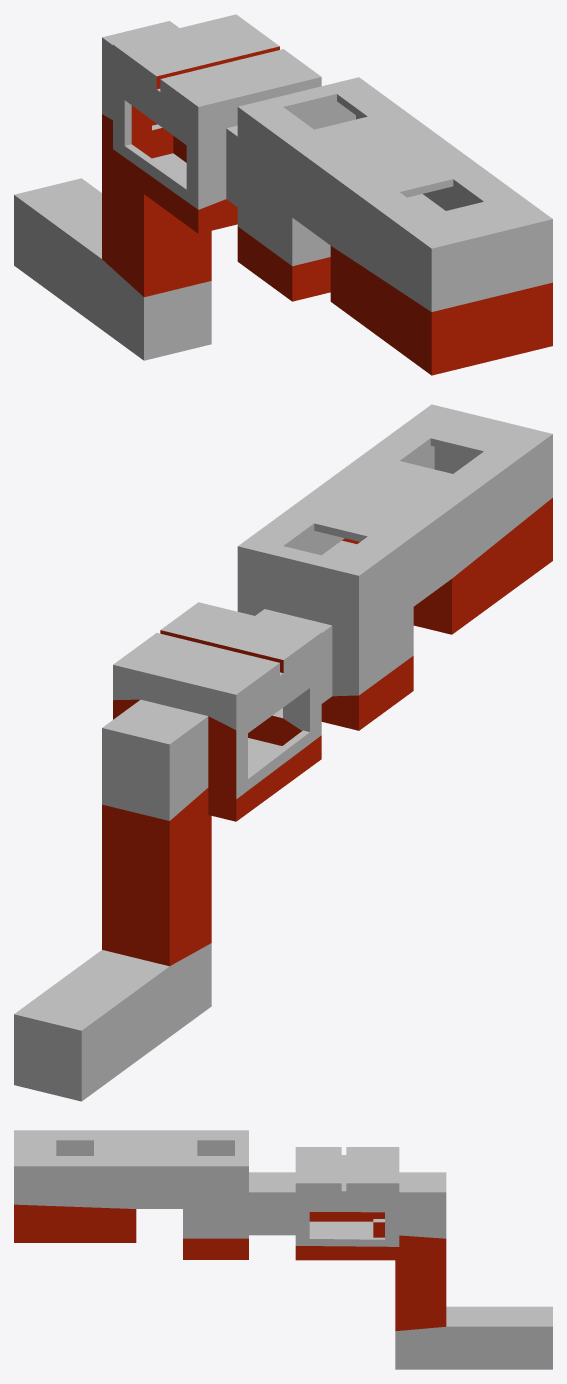
Rendered from map.obj.
The picture shows the model from 3 angles, top to bottom: view 1: azimuth 30°, elevation 25°; view 2: azimuth 150°, elevation 25°; view 3: azimuth 270°, elevation 25°; orthographic projection. The views are drawn at different scales.
Visible parts, largest first — view 1: map_Plane; view 2: map_Plane; view 3: map_Plane.
Boxes of the visible parts, x1,y1,x2,y2 form: map_Plane: [14, 14, 552, 375]; map_Plane: [14, 404, 552, 1101]; map_Plane: [14, 1130, 552, 1369].
Bounding box in the file's own units: 4.6 × 12.43 × 28.71.
